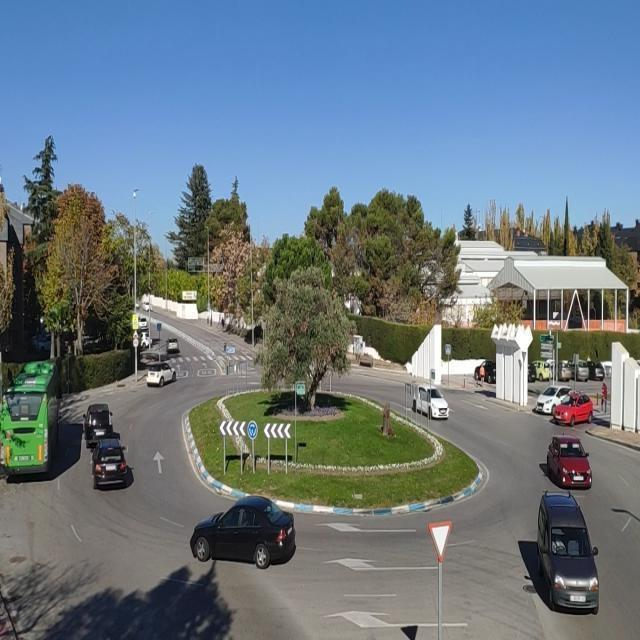Bus: (0, 358, 63, 473)
Car: (534, 492, 600, 613), (188, 496, 298, 568), (547, 435, 594, 489), (90, 438, 132, 489), (552, 392, 594, 426), (82, 404, 114, 447), (412, 384, 450, 420), (535, 385, 573, 415), (145, 361, 176, 387), (528, 359, 553, 382), (546, 360, 572, 381), (565, 360, 590, 381), (580, 361, 606, 381), (474, 361, 496, 383), (31, 333, 51, 353), (167, 338, 180, 354)
